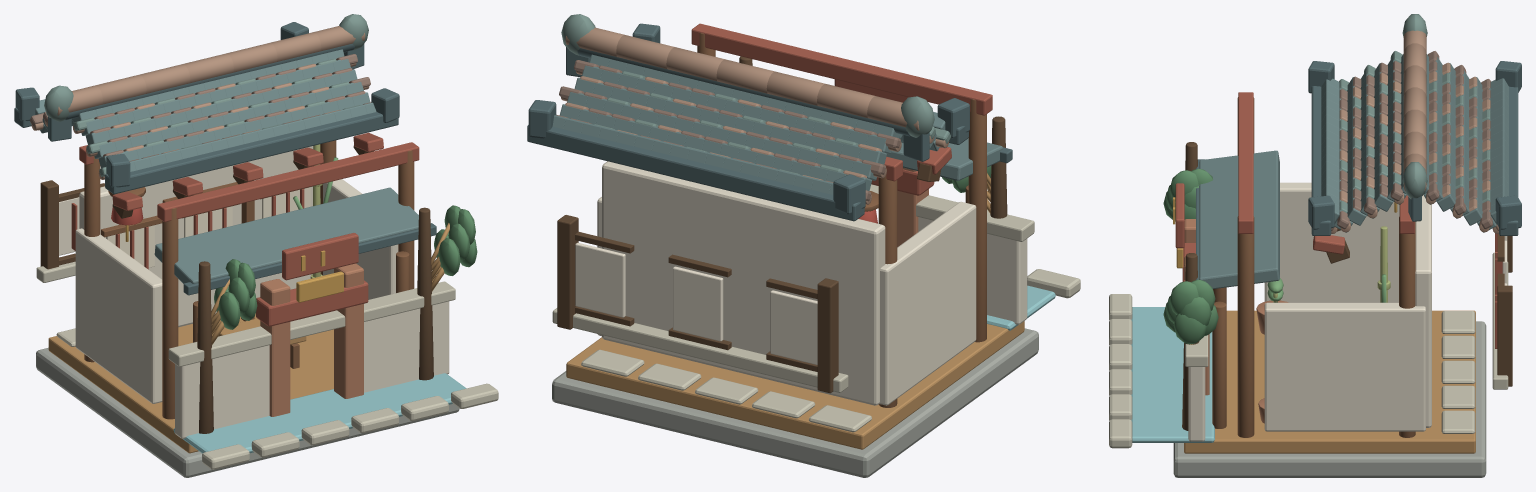
The model's file is building_house_open.glb.
3 renders of one model, left to right at view 1: azimuth 30°, elevation 25°; view 2: azimuth 150°, elevation 25°; view 3: azimuth 270°, elevation 25°, orthographic. The views are drawn at different scales.
Parts seen in each view (by area): view 1: V4_plaster, V4_roof, V4_wood_red, V4_roof_edge, V4_stone_light, V4_wood, V4_roof_terracotta_light, V4_wood_dark, V4_wood_light, V4_water_light, V4_brick, V4_stone (+6 smaller); view 2: V4_plaster, V4_roof, V4_stone, V4_wood_light, V4_roof_edge, V4_stone_light, V4_roof_terracotta_light, V4_plaster_light, V4_wood_dark, V4_wood_red, V4_wood, V4_roof_moss (+3 smaller); view 3: V4_plaster, V4_roof, V4_wood_light, V4_stone, V4_stone_light, V4_wood, V4_water_light, V4_roof_terracotta, V4_roof_terracotta_light, V4_roof_edge, V4_wood_red, V4_roof_moss (+5 smaller).
Part boxes in pixels (x1,y1,x2,y2): V4_plaster: [75, 146, 449, 438]; V4_roof: [35, 49, 418, 283]; V4_wood_red: [71, 132, 419, 326]; V4_roof_edge: [14, 22, 436, 295]; V4_stone_light: [36, 261, 498, 469]; V4_wood: [84, 140, 414, 419]; V4_roof_terracotta_light: [31, 26, 369, 179]; V4_wood_dark: [40, 145, 433, 433]; V4_wood_light: [48, 223, 449, 453]; V4_water_light: [173, 373, 466, 453]; V4_brick: [260, 263, 363, 416]; V4_stone: [36, 347, 459, 477]; V4_plaster: [597, 161, 1027, 405]; V4_roof: [552, 54, 1002, 194]; V4_stone: [552, 328, 1038, 477]; V4_wood_light: [566, 173, 1024, 449]; V4_roof_edge: [527, 23, 1012, 221]; V4_stone_light: [552, 184, 1080, 432]; V4_roof_terracotta_light: [561, 27, 949, 204]; V4_plaster_light: [575, 242, 817, 364]; V4_wood_dark: [557, 56, 1007, 393]; V4_wood_red: [691, 23, 992, 195]; V4_wood: [697, 33, 986, 407]; V4_roof_moss: [561, 14, 950, 174]; V4_plaster: [1188, 182, 1431, 441]; V4_roof: [1199, 54, 1508, 288]; V4_wood_light: [1184, 310, 1475, 453]; V4_stone: [1173, 321, 1486, 477]; V4_stone_light: [1109, 252, 1508, 448]; V4_wood: [1212, 97, 1415, 437]; V4_water_light: [1131, 307, 1214, 442]; V4_roof_terracotta: [1331, 51, 1492, 230]; V4_roof_terracotta_light: [1331, 30, 1498, 233]; V4_roof_edge: [1196, 61, 1521, 281]; V4_wood_red: [1175, 92, 1502, 348]; V4_roof_moss: [1339, 14, 1490, 212].
Bounding box in the file's own units: 2.97 × 2.75 × 3.2.
